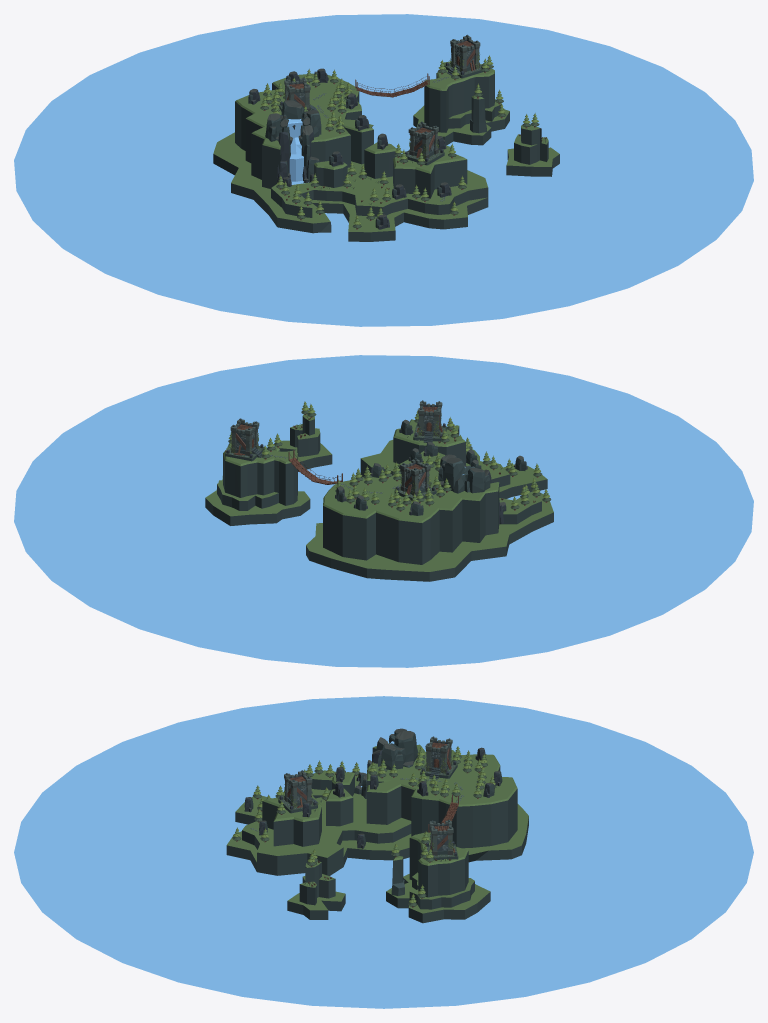
The model's file is castle_island.glb.
3 renders of one model, top to bottom at view 1: azimuth 30°, elevation 25°; view 2: azimuth 150°, elevation 25°; view 3: azimuth 270°, elevation 25°, orthographic.
Visible parts, largest first — view 1: Water, Island, Castle_Tower, Castle_Tower__1_, Castle_Tower__2_, Bridge; view 2: Water, Island, Castle_Tower, Castle_Tower__2_, Castle_Tower__1_; view 3: Water, Island, Castle_Tower__2_, Castle_Tower__1_, Castle_Tower.
Boxes of the visible parts, box(x1,y1,x2,y2) form: Water: box(14, 14, 753, 326); Island: box(213, 61, 559, 241); Castle_Tower: box(444, 34, 484, 78); Castle_Tower__1_: box(404, 121, 444, 165); Castle_Tower__2_: box(279, 77, 317, 111); Bridge: box(355, 73, 429, 97); Water: box(14, 355, 753, 667); Island: box(205, 413, 553, 581); Castle_Tower: box(225, 418, 263, 461); Castle_Tower__2_: box(394, 458, 436, 500); Castle_Tower__1_: box(413, 400, 446, 442); Water: box(14, 696, 753, 1008); Island: box(226, 728, 528, 923); Castle_Tower__2_: box(420, 736, 457, 779); Castle_Tower__1_: box(278, 770, 317, 813); Castle_Tower: box(425, 819, 458, 860).
Bounding box in the file's own units: 165 × 21.99 × 165.
Materials: 2 (1 with a texture image).
